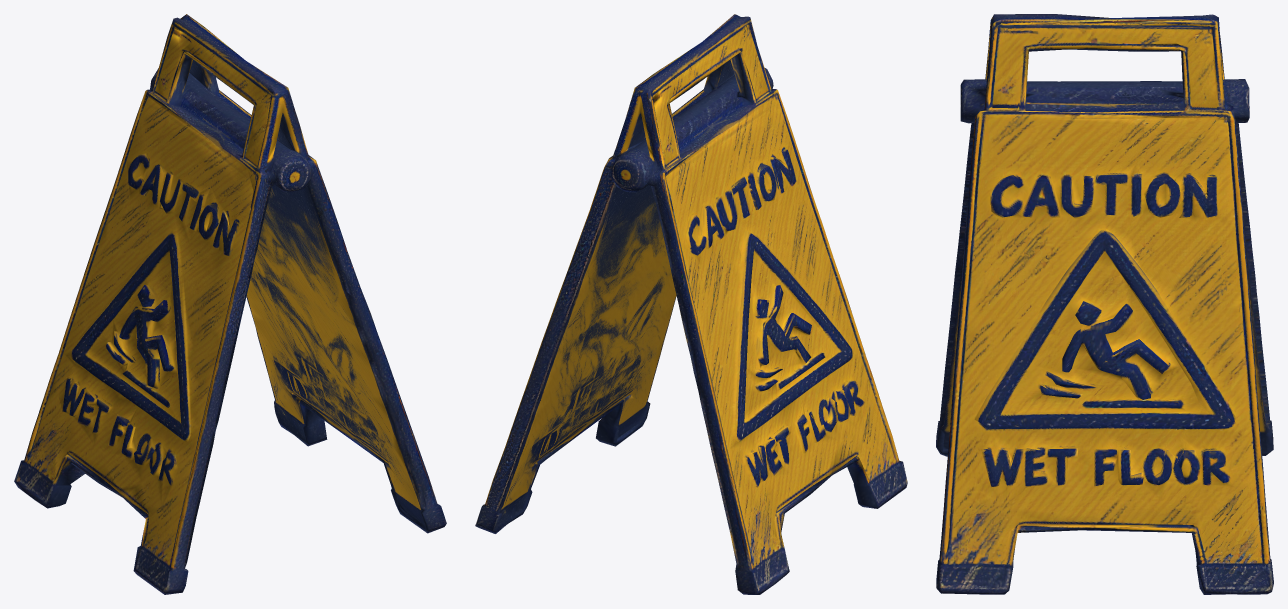
The model's file is WetFloorSign.fbx.
3 views of the same model, side by side, from view 1: azimuth 30°, elevation 25°; view 2: azimuth 150°, elevation 25°; view 3: azimuth 270°, elevation 25° (orthographic). The views are drawn at different scales.
Visible parts, largest first — view 1: tripo_node_8f9e2a4f-b959-4dc4-8f52-c2c461c7e6a1; view 2: tripo_node_8f9e2a4f-b959-4dc4-8f52-c2c461c7e6a1; view 3: tripo_node_8f9e2a4f-b959-4dc4-8f52-c2c461c7e6a1.
Boxes of the visible parts, left/top/right/bottom form: tripo_node_8f9e2a4f-b959-4dc4-8f52-c2c461c7e6a1: left=14, top=14, right=446, bottom=594; tripo_node_8f9e2a4f-b959-4dc4-8f52-c2c461c7e6a1: left=475, top=14, right=907, bottom=594; tripo_node_8f9e2a4f-b959-4dc4-8f52-c2c461c7e6a1: left=936, top=14, right=1273, bottom=594.
Size of the model in its own units: 64.43 by 100 by 60.46.
1 material, 1 textured.
